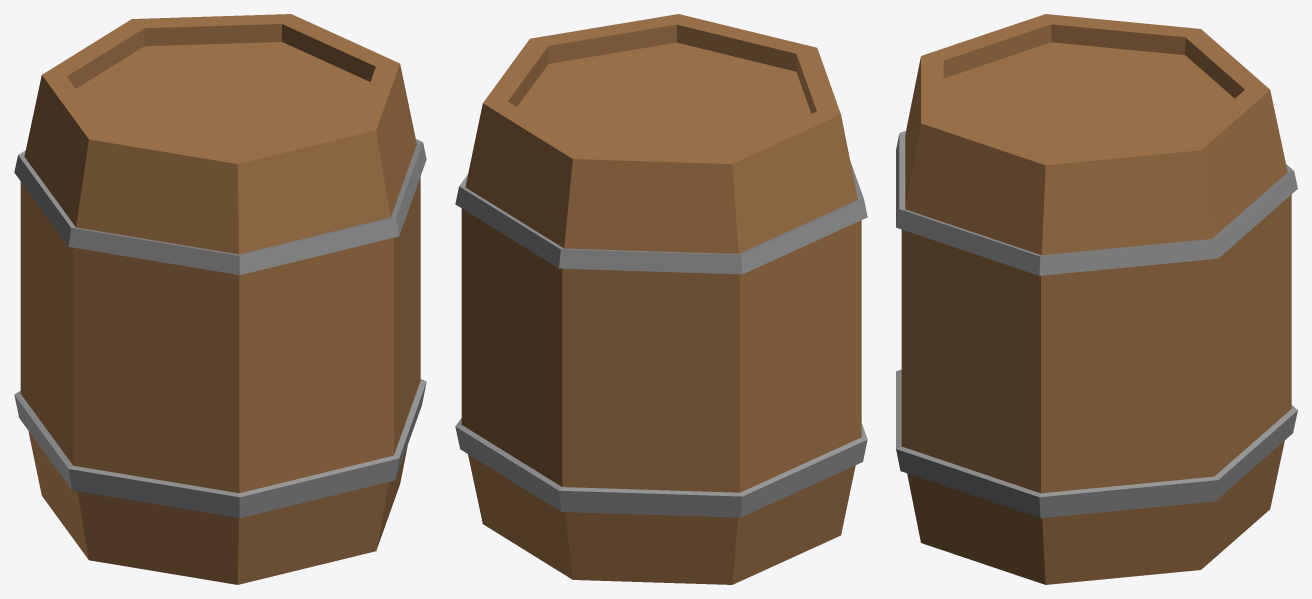
File: WesternBarrel.glb
The picture shows the model from 3 angles, left to right: view 1: azimuth 30°, elevation 25°; view 2: azimuth 150°, elevation 25°; view 3: azimuth 270°, elevation 25°; orthographic projection.
Parts seen in each view (by area): view 1: WesternBarrel2; view 2: WesternBarrel2; view 3: WesternBarrel2.
Part boxes in pixels (x1=…): WesternBarrel2: x1=14, y1=14, x2=426, y2=584; WesternBarrel2: x1=455, y1=14, x2=867, y2=584; WesternBarrel2: x1=896, y1=14, x2=1297, y2=584.
Bounding box in the file's own units: 1.26 × 1.42 × 1.23.
2 materials, 2 textured.
